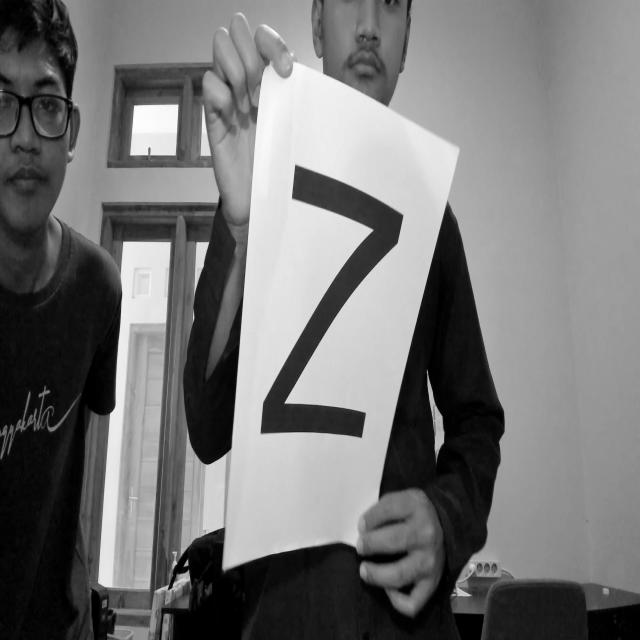z: (253, 151, 406, 482)
